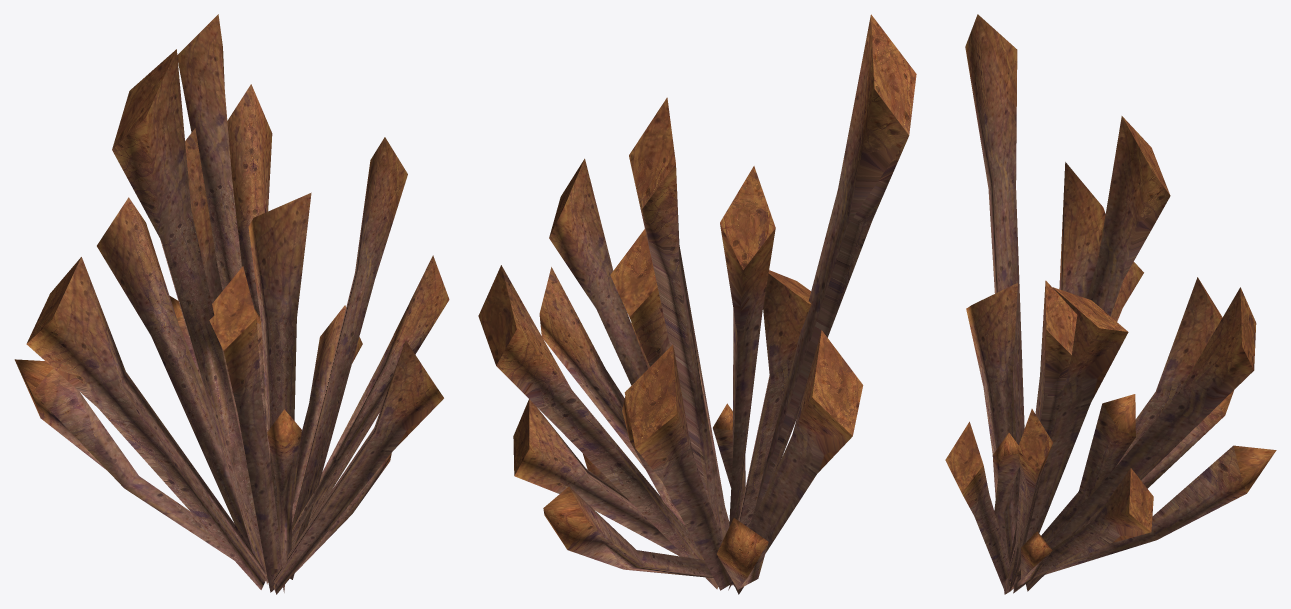
Rendered from Shroom_Plant2_2_L3.fbx.
3 views of the same model, side by side, from view 1: azimuth 30°, elevation 25°; view 2: azimuth 150°, elevation 25°; view 3: azimuth 270°, elevation 25° (orthographic). The views are drawn at different scales.
Parts seen in each view (by area): view 1: polySurface289; view 2: polySurface289; view 3: polySurface289.
Part boxes in pixels (left/top/right/bottom): polySurface289: left=14, top=14, right=449, bottom=594; polySurface289: left=478, top=14, right=916, bottom=594; polySurface289: left=945, top=14, right=1276, bottom=594.
Size of the model in its own units: 79.37 by 123 by 70.04.
